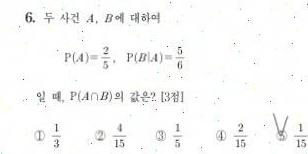choice: (273, 120, 289, 142)
not-choice: (92, 128, 107, 142), (214, 129, 227, 142), (32, 129, 46, 141), (154, 129, 167, 141)
